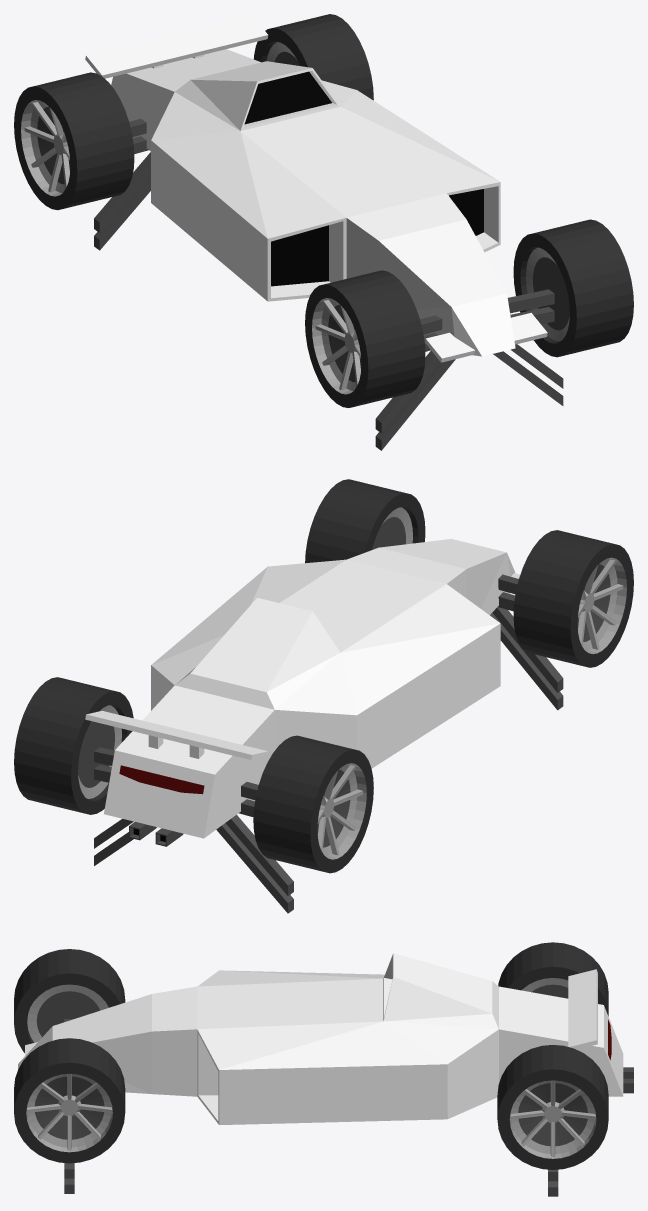
The model's file is car.glb.
The picture shows the model from 3 angles, top to bottom: view 1: azimuth 30°, elevation 25°; view 2: azimuth 150°, elevation 25°; view 3: azimuth 270°, elevation 25°; orthographic projection. The views are drawn at different scales.
Visible parts, largest first — view 1: Body, WheelBR, WheelFR, WheelFL, WheelBL, SuspensionFR, SuspensionBR, Suspension, SuspensionFL; view 2: Body, WheelBR, WheelFR, WheelBL, WheelFL, SuspensionBR, SuspensionFR, Suspension, SuspensionBL; view 3: Body, WheelBL, WheelFL, WheelFR, WheelBR.
Boxes of the visible parts, x1,y1,x2,y2 form: Body: (85, 15, 547, 362); WheelBR: (14, 72, 134, 210); WheelFR: (305, 270, 425, 407); WheelFL: (513, 219, 633, 357); WheelBL: (253, 14, 373, 100); SuspensionFR: (375, 350, 455, 450); SuspensionBR: (94, 152, 150, 250); Suspension: (129, 118, 554, 351); SuspensionFL: (493, 344, 563, 405); Body: (85, 539, 520, 846); WheelBR: (253, 735, 373, 873); WheelFR: (513, 530, 633, 667); WheelBL: (14, 677, 133, 814); WheelFL: (305, 479, 425, 563); SuspensionBR: (216, 814, 293, 913); SuspensionFR: (490, 607, 563, 710); Suspension: (94, 574, 518, 817); SuspensionBL: (94, 819, 133, 865); Body: (18, 953, 633, 1124); WheelBL: (497, 1045, 608, 1169); WheelFL: (14, 1038, 125, 1163); WheelFR: (14, 949, 125, 1052); WheelBR: (498, 942, 608, 1016).
Size of what is drawn, in the model's own units: 1.79 by 1.25 by 3.69.
Materials: 6 (2 with a texture image).
